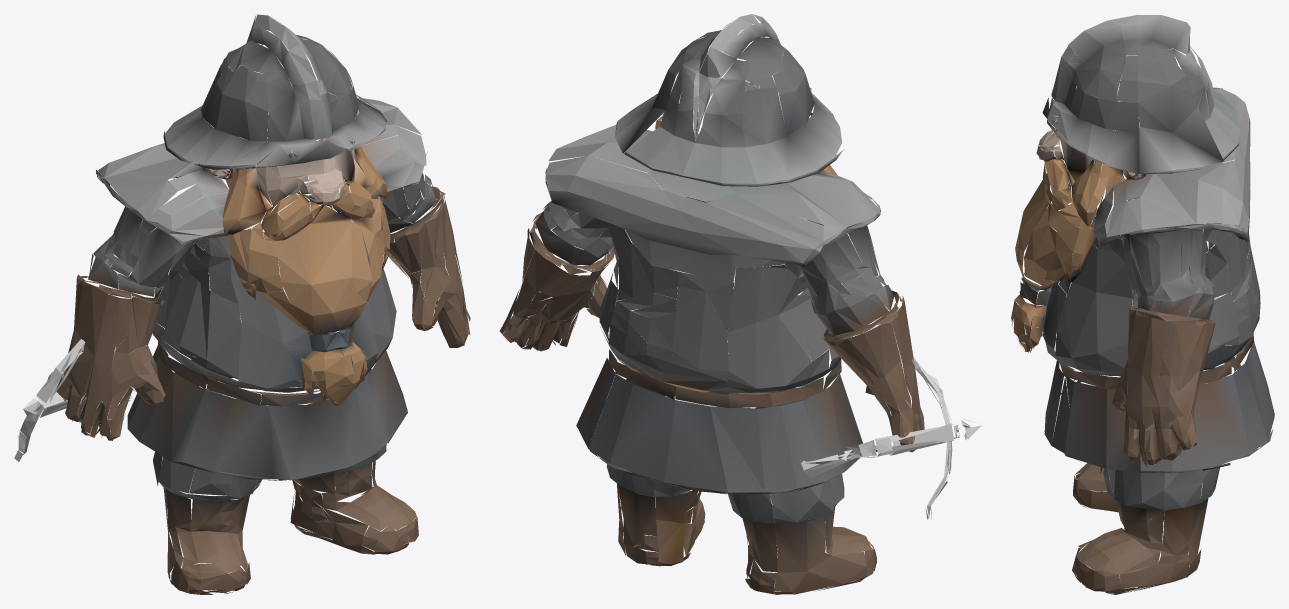
File: archers.glb
3 views of the same model, side by side, from view 1: azimuth 30°, elevation 25°; view 2: azimuth 150°, elevation 25°; view 3: azimuth 270°, elevation 25° (orthographic). The views are drawn at different scales.
Visible parts, largest first — view 1: archers; view 2: archers; view 3: archers.
Part boxes in pixels (x1=…): archers: x1=14, y1=14, x2=470, y2=594; archers: x1=499, y1=14, x2=981, y2=594; archers: x1=1011, y1=14, x2=1274, y2=594.
Bounding box in the file's own units: 1.43 × 1.6 × 0.7259.
